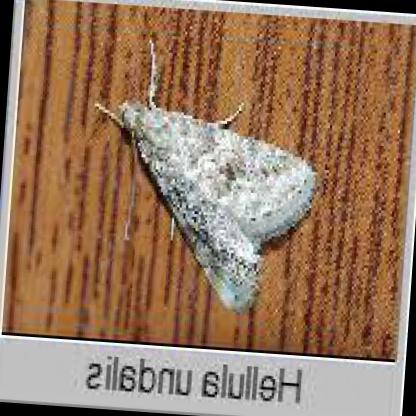Hellula undalis: (86, 33, 321, 319)
